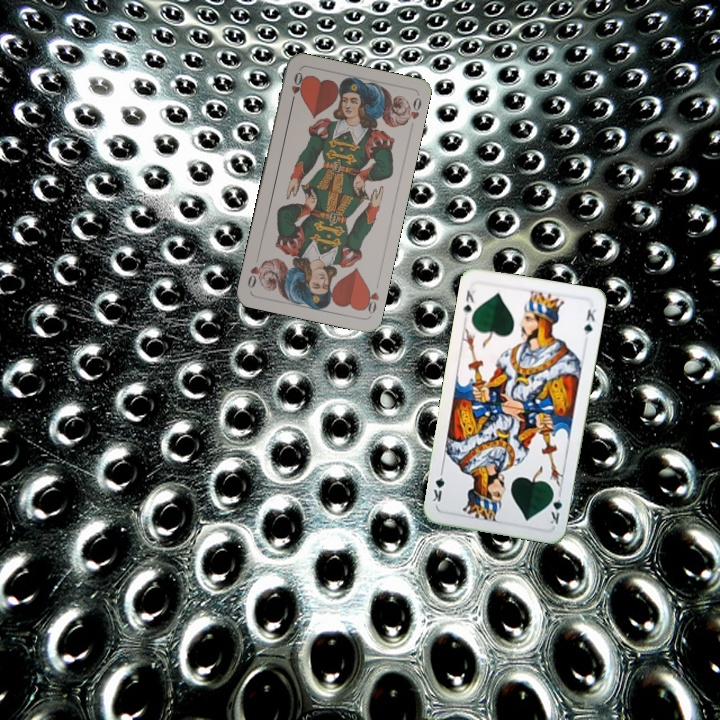GK: (545, 487, 565, 527), (459, 286, 478, 318)
HO: (359, 283, 382, 317), (287, 68, 306, 107)
